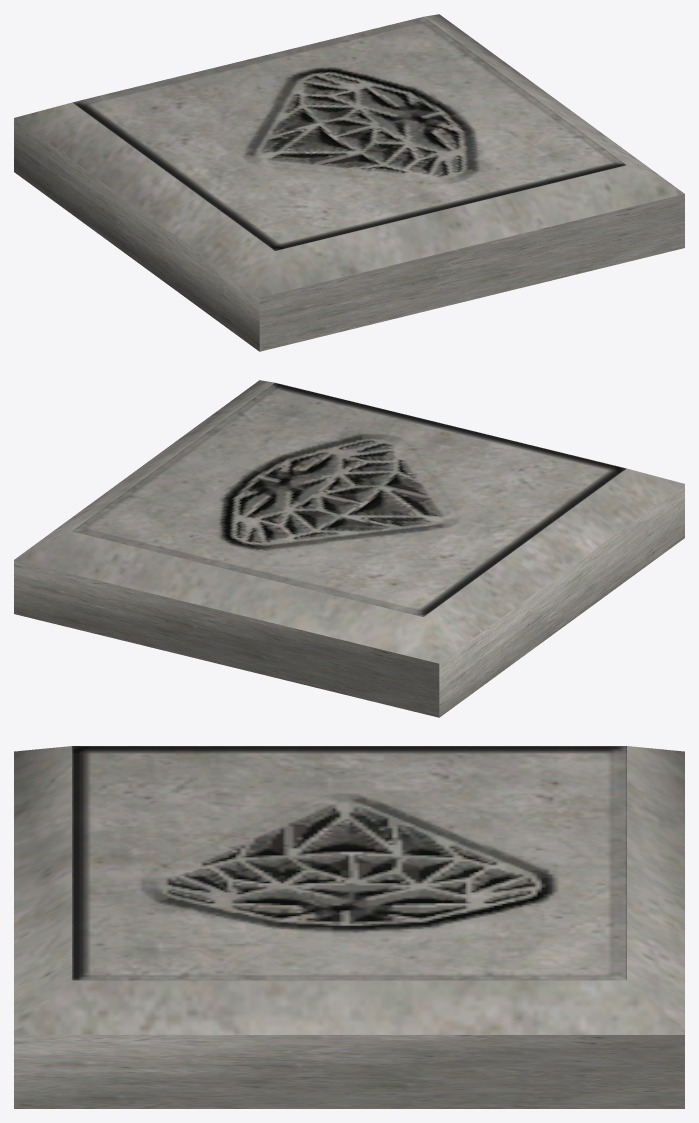
The model's file is FLOOR_RUIN_TREASURE_FLOOR_RUIN_TREASURE01.fbx.
3 views of the same model, one above another, from view 1: azimuth 30°, elevation 25°; view 2: azimuth 150°, elevation 25°; view 3: azimuth 270°, elevation 25° (orthographic). The views are drawn at different scales.
Parts seen in each view (by area): view 1: FLOOR_RUIN_TREASURE_FLOOR_RUIN_TREASURE01; view 2: FLOOR_RUIN_TREASURE_FLOOR_RUIN_TREASURE01; view 3: FLOOR_RUIN_TREASURE_FLOOR_RUIN_TREASURE01.
Boxes of the visible parts, x1,y1,x2,y2 form: FLOOR_RUIN_TREASURE_FLOOR_RUIN_TREASURE01: [14, 14, 684, 351]; FLOOR_RUIN_TREASURE_FLOOR_RUIN_TREASURE01: [14, 380, 684, 717]; FLOOR_RUIN_TREASURE_FLOOR_RUIN_TREASURE01: [14, 746, 684, 1108].
Bounding box in the file's own units: 15000 × 2565 × 15000.
2 materials, 2 textured.
